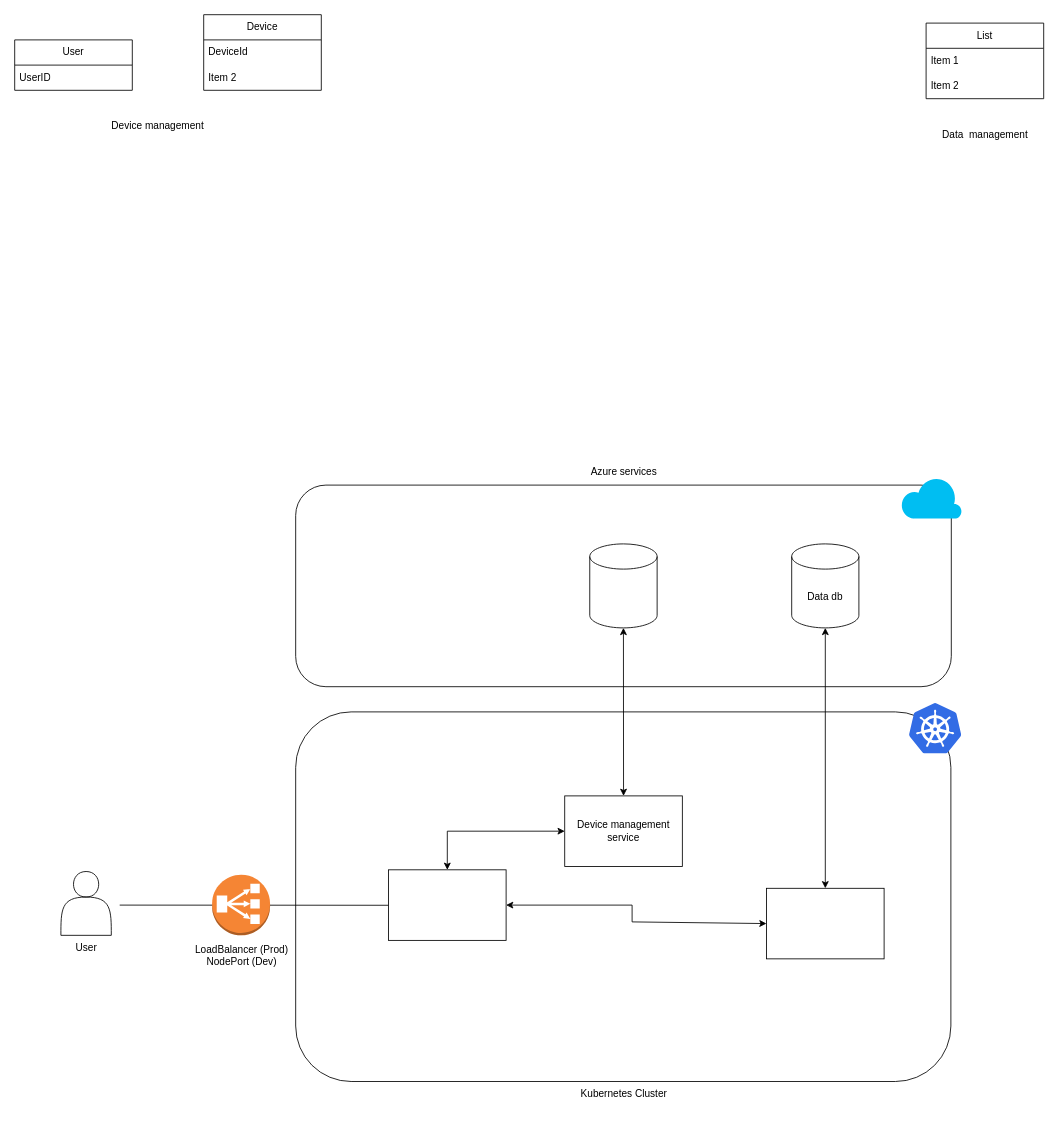
Some shapes in this 1058 by 1121 pixel diagram are drawn without their labels. Each missing label, with the centre of its shape:
Data management service: point (825, 923)
Device db: point (623, 585)
FrontEnd Service Dashboard: point (447, 904)
